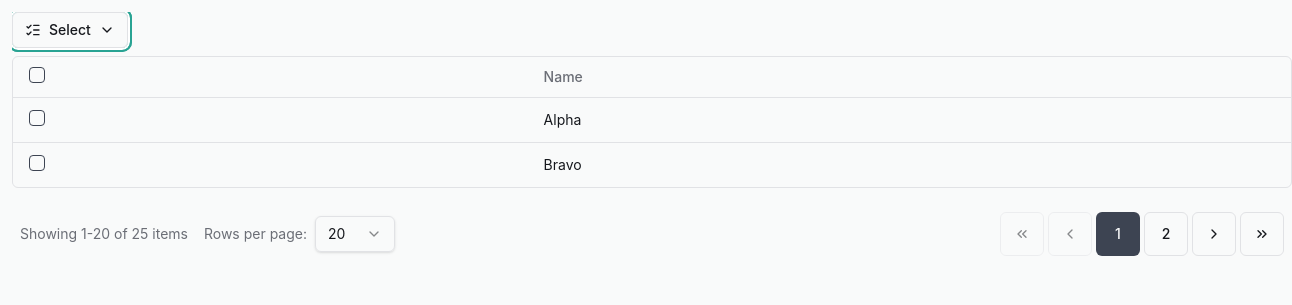
Test: supports keyboard selection and restores focus on Escape
The image size is (1292, 305).
Press Enter Home Enter
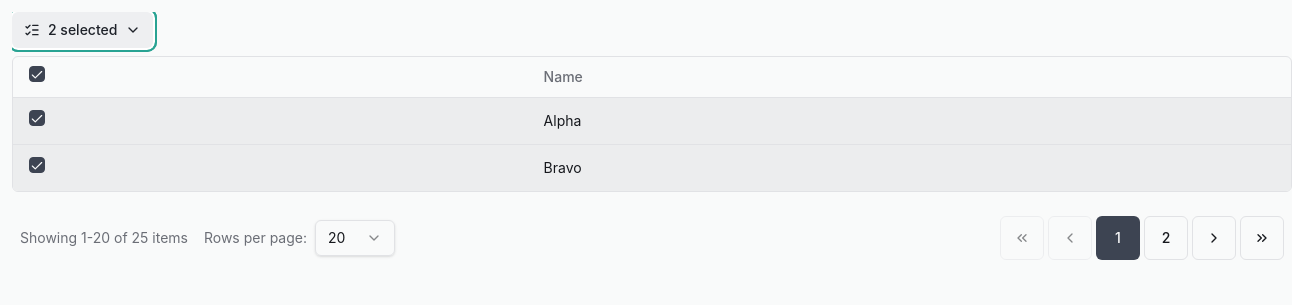
Now the checkbox named "Select Alpha" is checked, box left=29, top=110, right=45, bottom=126
Click the button with aria-label "Row selection": [83, 30] box left=12, top=12, right=154, bottom=48
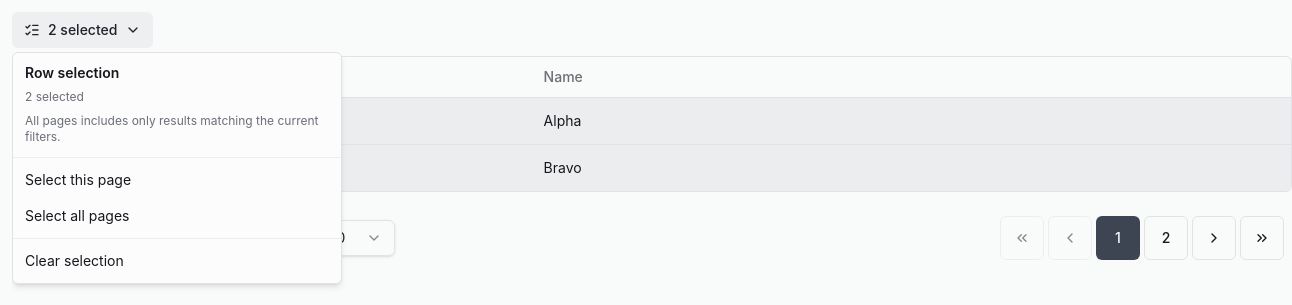
Press Escape
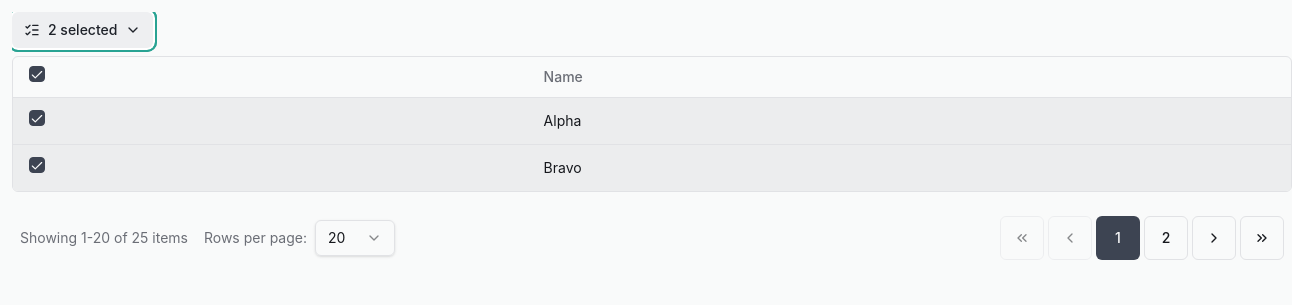
Now the menu is gone
